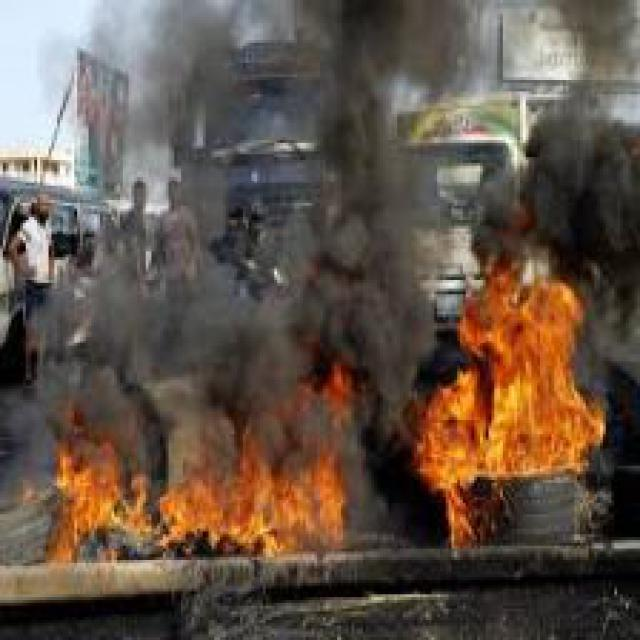fire: (403, 229, 614, 557), (40, 354, 363, 560)
